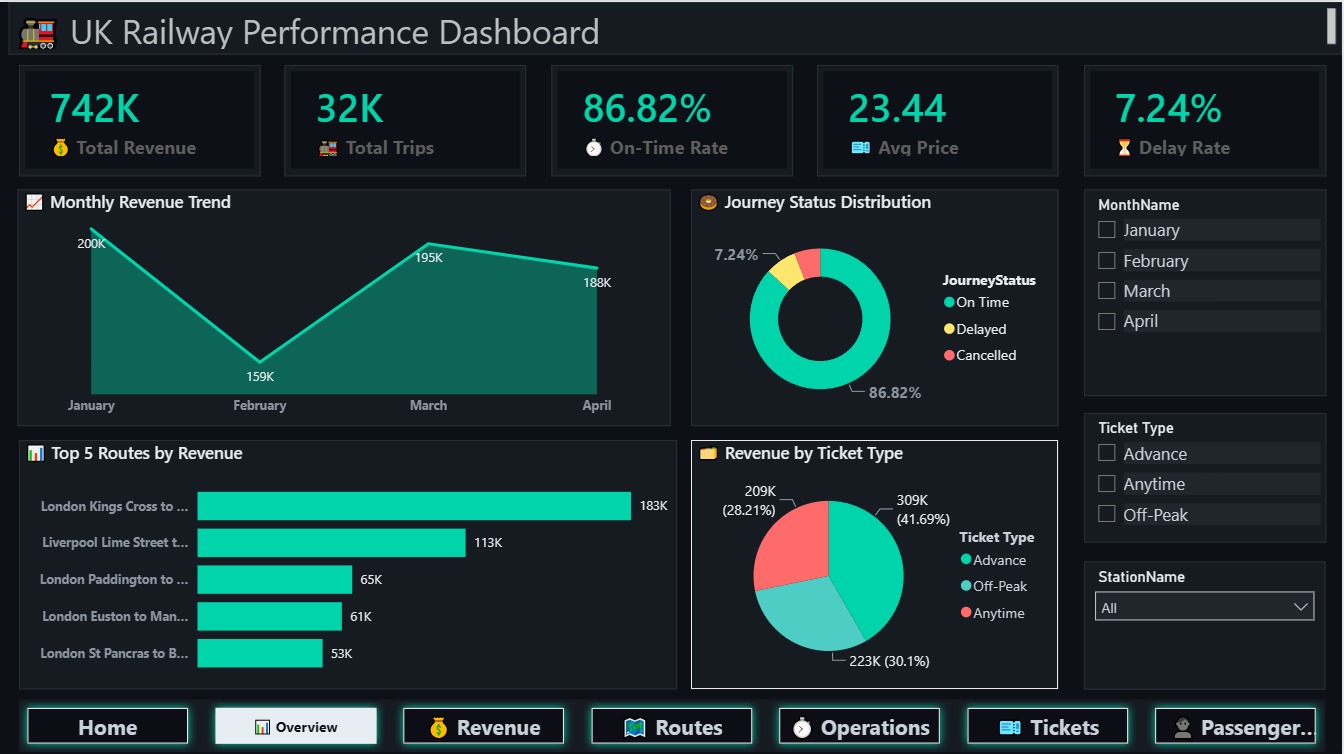

Layout of this report page (visuals, bound fields, positions):
{"tool":"powerbi","page":{"name":"📊 Overview","canvas":[1280,720],"ordinal":0},"visuals":[{"type":"textbox","box":[10,0,1270,50],"z":0},{"type":"cardVisual","fields":{"Data":["Measures_page1.Total Revenue"]},"box":[20,60,230.2,106],"z":1000},{"type":"cardVisual","fields":{"Data":["Measures_page1.Total Trips"]},"box":[273.5,60,230.2,106],"z":2000},{"type":"cardVisual","fields":{"Data":["Measures_page1.On Time Rate"]},"box":[527,60,230.2,106],"z":3000},{"type":"cardVisual","fields":{"Data":["Measures_page1.Avg Ticket Price"]},"box":[780.5,60,230.2,106],"z":4000},{"type":"cardVisual","fields":{"Data":["Measures_page1.Delay Rate"]},"box":[1034,60.2,230.9,105.7],"z":5000},{"type":"areaChart","title":"📈 Monthly Revenue Trend","fields":{"Y":["Measures_page1.Total Revenue"],"Category":["Dim_Date.MonthName"]},"box":[18.8,178.2,622.1,225.1],"z":6000},{"type":"clusteredBarChart","title":"📊 Top 5 Routes by Revenue","fields":{"Category":["Fact_Tickets.Route"],"Y":["Measures_page1.Total Revenue"]},"box":[20.3,417.3,626.8,237.6],"z":7000},{"type":"donutChart","title":"🍩 Journey Status Distribution","fields":{"Category":["Fact_Tickets.JourneyStatus"],"Y":["Measures_page1.Total Trips"]},"box":[659.6,178.2,350.1,225.1],"z":8000},{"type":"pieChart","title":"🗂️ Revenue by Ticket Type","fields":{"Category":["Dim_Ticket.Ticket Type"],"Y":["Measures_page1.Total Revenue"]},"box":[659.6,417.3,350.1,237.6],"z":9000},{"type":"slicer","fields":{"Values":["Dim_Date.MonthName"]},"box":[1034,178.8,230.9,196.7],"z":10000},{"type":"slicer","fields":{"Values":["Dim_Ticket.Ticket Type"]},"box":[1034,391.8,230.9,123.6],"z":11000},{"type":"slicer","fields":{"Values":["Dim_Station.StationName"]},"box":[1034.7,533,229.8,121.9],"z":12000},{"type":"pageNavigator","box":[20.3,664.3,1244.1,50],"z":13000}]}

Visuals, with their boxes in screenshot pixels (x1, y1, x2, y2), scaled from the page's 1280x720 canvas onto the 1344x754 screenshot:
textbox: box=[10, 0, 1343, 52]
cardVisual - Measures_page1.Total Revenue: box=[21, 63, 263, 174]
cardVisual - Measures_page1.Total Trips: box=[287, 63, 529, 174]
cardVisual - Measures_page1.On Time Rate: box=[553, 63, 795, 174]
cardVisual - Measures_page1.Avg Ticket Price: box=[820, 63, 1061, 174]
cardVisual - Measures_page1.Delay Rate: box=[1086, 63, 1328, 174]
"📈 Monthly Revenue Trend" areaChart: box=[20, 187, 673, 422]
"📊 Top 5 Routes by Revenue" clusteredBarChart: box=[21, 437, 679, 686]
"🍩 Journey Status Distribution" donutChart: box=[693, 187, 1060, 422]
"🗂️ Revenue by Ticket Type" pieChart: box=[693, 437, 1060, 686]
slicer - Dim_Date.MonthName: box=[1086, 187, 1328, 393]
slicer - Dim_Ticket.Ticket Type: box=[1086, 410, 1328, 540]
slicer - Dim_Station.StationName: box=[1086, 558, 1328, 686]
pageNavigator: box=[21, 696, 1328, 748]
